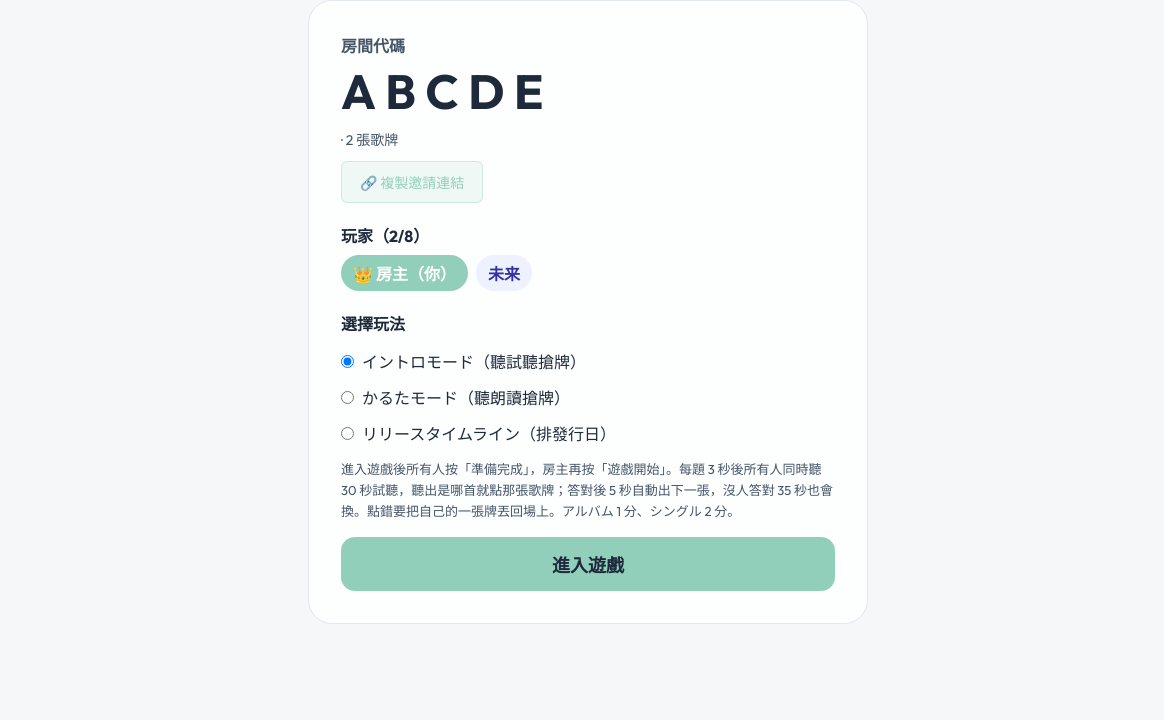
Test: RoomClient › 房主：大廳顯示房號、玩法選單；一個人也能開始；加入第二人後開始 → 進遊戲畫面
Check: the text "ABCDE" is shown, box x1=341 y1=61 x2=553 y2=121
Check: the button "進入遊戲" is enabled, box x1=341 y1=537 x2=835 y2=591
Click the radio button labelled "かるたモード（聽朗讀搶牌）" at (348, 397), box x1=341 y1=390 x2=354 y2=404
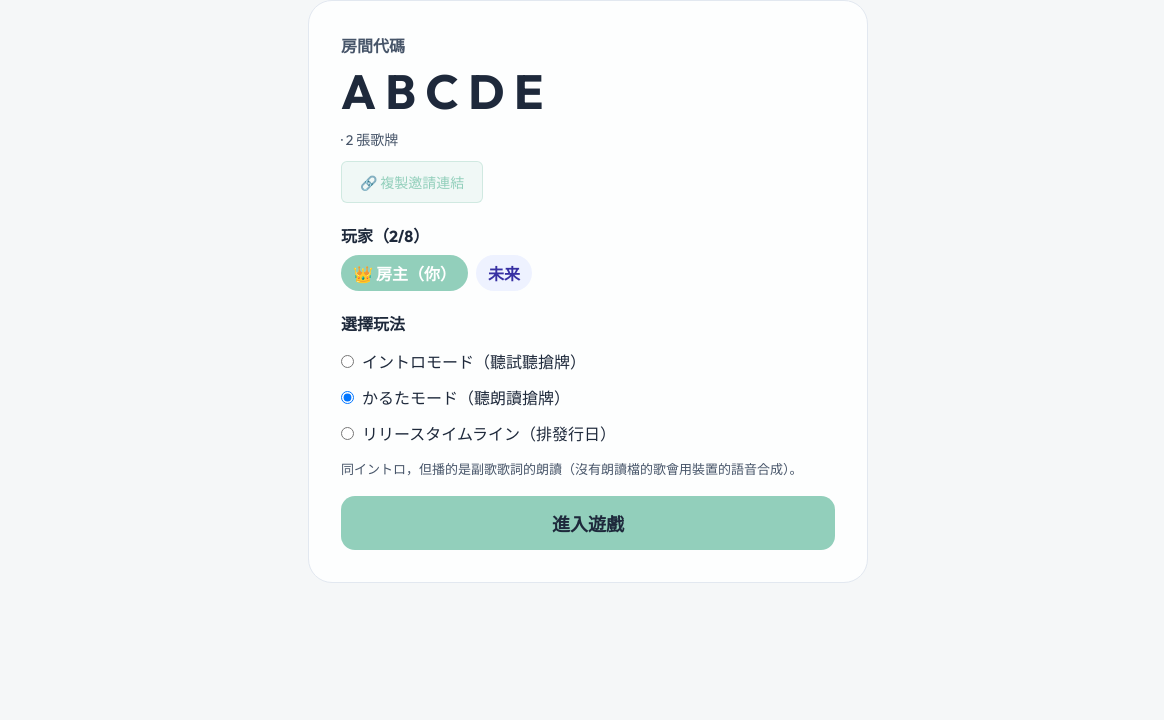
Click the button "進入遊戲" at (588, 523), box x1=341 y1=496 x2=835 y2=550
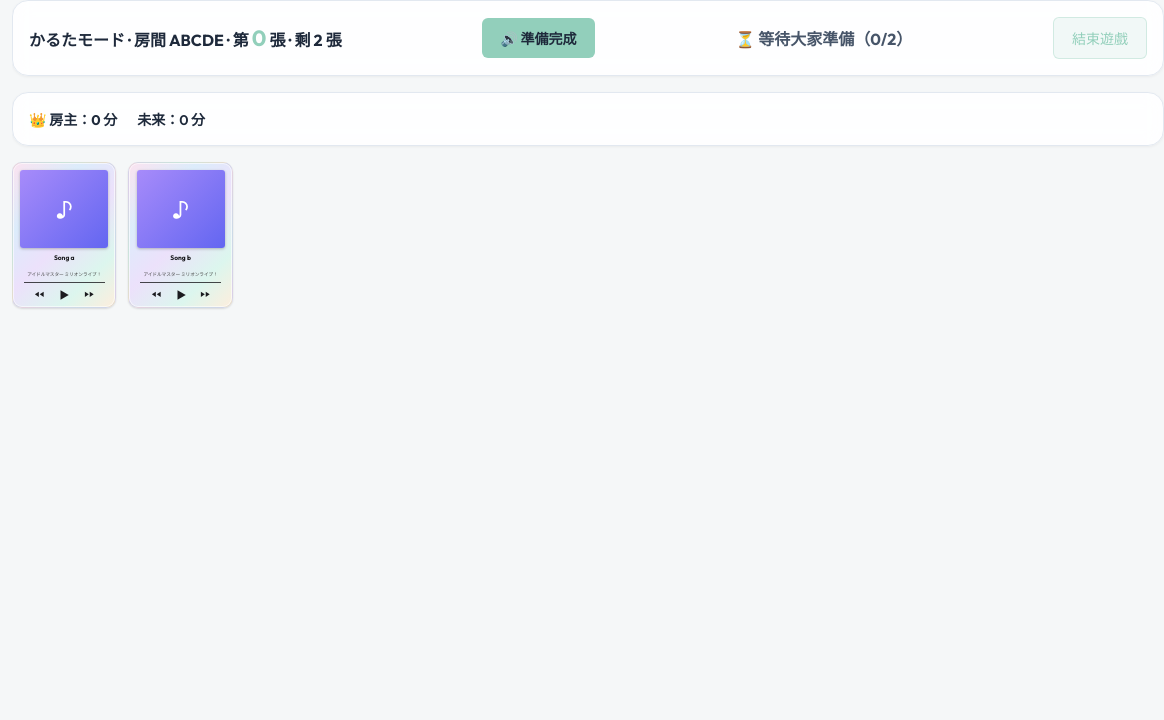
Check: the text "かるたモード · 房間 ABCDE · 第 0 張 · 剩 2 張" is shown, box x1=29 y1=24 x2=342 y2=52
